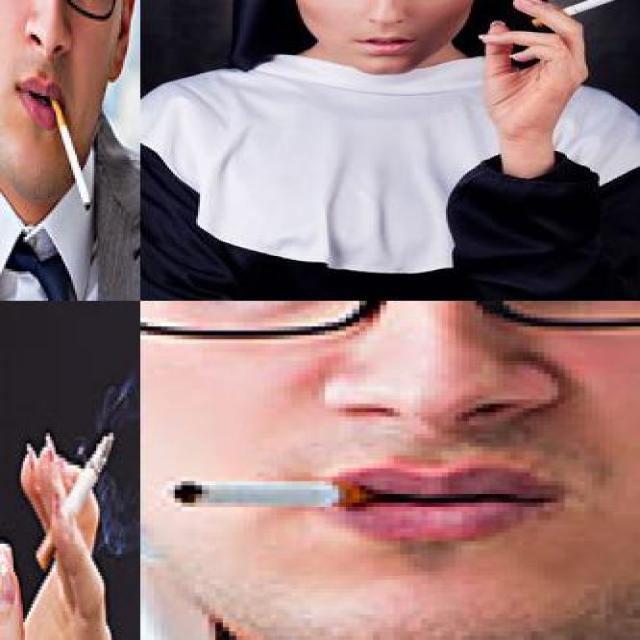cigarette: (36, 429, 116, 572), (162, 472, 360, 507), (48, 90, 94, 208), (530, 0, 638, 28)
